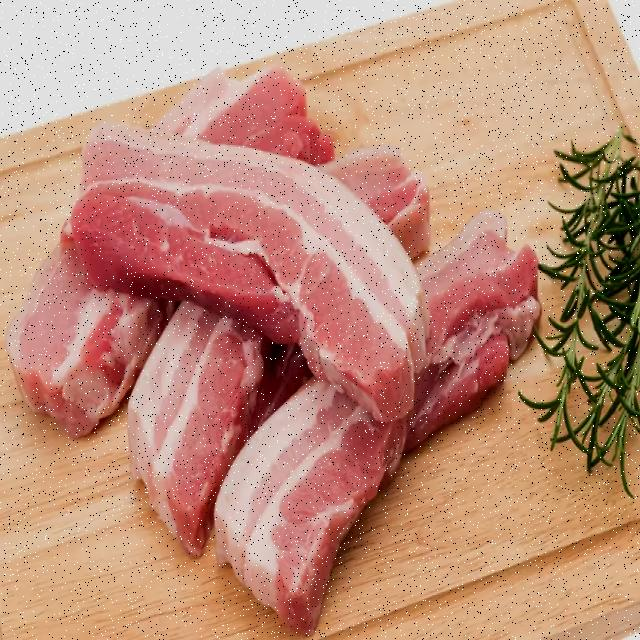Pork: (27, 112, 413, 478)
